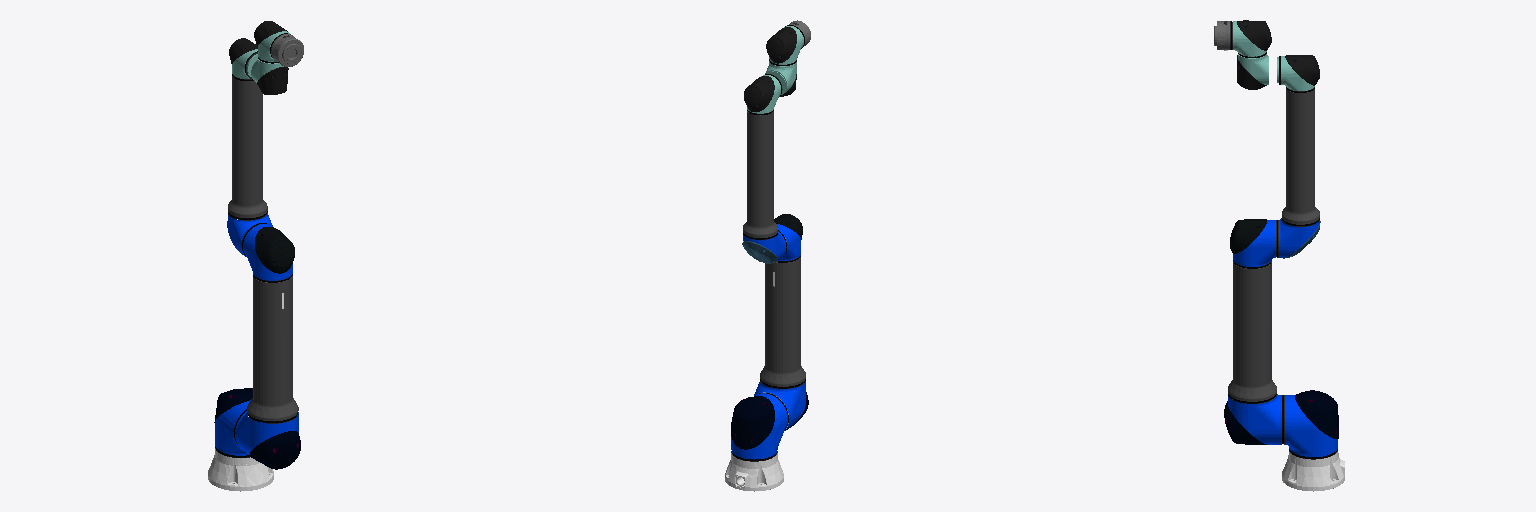
The robot description file, URDF, robot "rb10_1300e":
<?xml version="1.0" ?>
<!-- =================================================================================== -->
<!-- |    This document was autogenerated by xacro from rb10_1300e.urdf.xacro          | -->
<!-- |    EDITING THIS FILE BY HAND IS NOT RECOMMENDED                                 | -->
<!-- =================================================================================== -->
<robot name="rb10_1300e">
  <link name="link0">
    <visual>
      <geometry>
        <mesh filename="package://rbpodo_description/meshes/rb10_1300e/visual/link0.dae"/>
      </geometry>
    </visual>
    <collision>
      <geometry>
        <mesh filename="package://rbpodo_description/meshes/rb10_1300e/collision/link0.stl"/>
      </geometry>
    </collision>
  </link>
  <link name="link1">
    <visual>
      <geometry>
        <mesh filename="package://rbpodo_description/meshes/rb10_1300e/visual/link1.dae"/>
      </geometry>
    </visual>
    <collision>
      <geometry>
        <mesh filename="package://rbpodo_description/meshes/rb10_1300e/collision/link1.stl"/>
      </geometry>
    </collision>
    <inertial>
      <origin rpy="0 0 0" xyz="0.000021 -0.007855 -0.042537"/>
      <mass value="8.366"/>
      <inertia ixx="0.027403652" ixy="-5.926e-06" ixz="-1.0119e-05" iyy="0.027770573" iyz="0.003030512" izz="0.026140211"/>
    </inertial>
  </link>
  <link name="link2">
    <visual>
      <geometry>
        <mesh filename="package://rbpodo_description/meshes/rb10_1300e/visual/link2.dae"/>
      </geometry>
    </visual>
    <collision>
      <geometry>
        <mesh filename="package://rbpodo_description/meshes/rb10_1300e/collision/link2.stl"/>
      </geometry>
    </collision>
    <inertial>
      <origin rpy="0 0 0" xyz="-0.000013 -0.155462 0.225241"/>
      <mass value="15.61"/>
      <inertia ixx="1.140650644" ixy="-1.3042e-05" ixz="-6.7084e-05" iyy="1.134398623" iyz="0.024507884" izz="0.050849068"/>
    </inertial>
  </link>
  <link name="link3">
    <visual>
      <geometry>
        <mesh filename="package://rbpodo_description/meshes/rb10_1300e/visual/link3.dae"/>
      </geometry>
    </visual>
    <collision>
      <geometry>
        <mesh filename="package://rbpodo_description/meshes/rb10_1300e/collision/link3.stl"/>
      </geometry>
    </collision>
    <inertial>
      <origin rpy="0 0 0" xyz="-0.000048 -0.013885 0.325013"/>
      <mass value="5.69"/>
      <inertia ixx="0.312033029" ixy="9.298e-06" ixz="1.169e-05" iyy="0.311287646" iyz="0.005331552" izz="0.011397824"/>
    </inertial>
  </link>
  <link name="link4">
    <visual>
      <geometry>
        <mesh filename="package://rbpodo_description/meshes/rb10_1300e/visual/link4.dae"/>
      </geometry>
    </visual>
    <collision>
      <geometry>
        <mesh filename="package://rbpodo_description/meshes/rb10_1300e/collision/link4.stl"/>
      </geometry>
    </collision>
    <inertial>
      <origin rpy="0 0 0" xyz="0.000093 -0.113949 0.026461"/>
      <mass value="2.062"/>
      <inertia ixx="0.0027111" ixy="-8.022e-06" ixz="1.1208e-05" iyy="0.002715407" iyz="0.000144243" izz="0.002157043"/>
    </inertial>
  </link>
  <link name="link5">
    <visual>
      <geometry>
        <mesh filename="package://rbpodo_description/meshes/rb10_1300e/visual/link5.dae"/>
      </geometry>
    </visual>
    <collision>
      <geometry>
        <mesh filename="package://rbpodo_description/meshes/rb10_1300e/collision/link5.stl"/>
      </geometry>
    </collision>
    <inertial>
      <origin rpy="0 0 0" xyz="-0.000093 -0.026434 -0.003233"/>
      <mass value="2.061"/>
      <inertia ixx="0.002706437" ixy="1.1205e-05" ixz="-8.016e-06" iyy="0.002153592" iyz="0.000141528" izz="0.002712272"/>
    </inertial>
  </link>
  <link name="link6">
    <visual>
      <geometry>
        <mesh filename="package://rbpodo_description/meshes/rb10_1300e/visual/link6.dae"/>
      </geometry>
    </visual>
    <collision>
      <geometry>
        <mesh filename="package://rbpodo_description/meshes/rb10_1300e/collision/link6.stl"/>
      </geometry>
    </collision>
    <inertial>
      <origin rpy="0 0 0" xyz="-0.000210 -0.092540 -0.000292"/>
      <mass value="0.406"/>
      <inertia ixx="0.000345314" ixy="5.73e-07" ixz="6.61e-07" iyy="0.000532873" iyz="-5.4e-08" izz="0.000340021"/>
    </inertial>
  </link>
  <link name="tcp"/>
  <joint name="base" type="revolute">
    <origin rpy="0 0 0" xyz="0 0 0.197"/>
    <parent link="link0"/>
    <child link="link1"/>
    <axis xyz="0 0 1"/>
    <limit effort="10" lower="-3.14" upper="3.14" velocity="3.14"/>
  </joint>
  <joint name="shoulder" type="revolute">
    <origin rpy="0 0 0" xyz="0 -0.1875 0"/>
    <parent link="link1"/>
    <child link="link2"/>
    <axis xyz="0 1 0"/>
    <limit effort="10" lower="-3.14" upper="3.14" velocity="3.14"/>
  </joint>
  <joint name="elbow" type="revolute">
    <origin rpy="0 0 0" xyz="0 0 0.6127"/>
    <parent link="link2"/>
    <child link="link3"/>
    <axis xyz="0 1 0"/>
    <limit effort="10" lower="-3.14" upper="3.14" velocity="3.14"/>
  </joint>
  <joint name="wrist1" type="revolute">
    <origin rpy="0 0 0" xyz="0 0.11715 0.57015"/>
    <parent link="link3"/>
    <child link="link4"/>
    <axis xyz="0 1 0"/>
    <limit effort="10" lower="-3.14" upper="3.14" velocity="3.14"/>
  </joint>
  <joint name="wrist2" type="revolute">
    <origin rpy="0 0 0" xyz="0 -0.11715 0"/>
    <parent link="link4"/>
    <child link="link5"/>
    <axis xyz="0 0 1"/>
    <limit effort="10" lower="-3.14" upper="3.14" velocity="3.14"/>
  </joint>
  <joint name="wrist3" type="revolute">
    <origin rpy="0 0 0" xyz="0 0 0.11715"/>
    <parent link="link5"/>
    <child link="link6"/>
    <axis xyz="0 1 0"/>
    <limit effort="10" lower="-3.14" upper="3.14" velocity="3.14"/>
  </joint>
  <joint name="tcp_joint" type="fixed">
    <origin rpy="0 0 0" xyz="0 -0.1153 0"/>
    <parent link="link6"/>
    <child link="tcp"/>
  </joint>
  <ros2_control name="RBPodoHardwareInterface" type="system">
    <hardware>
      <plugin>mock_components/GenericSystem</plugin>
      <param name="mock_sensor_commands">False</param>
      <param name="state_following_offset">0.0</param>
    </hardware>
    <joint name="base">
      <param name="initial_position">0.0</param>
      <param name="torque_constant">1</param>
      <command_interface name="effort"/>
      <command_interface name="velocity"/>
      <command_interface name="position"/>
      <state_interface name="position"/>
      <state_interface name="effort"/>
    </joint>
    <joint name="shoulder">
      <param name="initial_position">0.0</param>
      <param name="torque_constant">1</param>
      <command_interface name="effort"/>
      <command_interface name="velocity"/>
      <command_interface name="position"/>
      <state_interface name="position"/>
      <state_interface name="effort"/>
    </joint>
    <joint name="elbow">
      <param name="initial_position">0.0</param>
      <param name="torque_constant">1</param>
      <command_interface name="effort"/>
      <command_interface name="velocity"/>
      <command_interface name="position"/>
      <state_interface name="position"/>
      <state_interface name="effort"/>
    </joint>
    <joint name="wrist1">
      <param name="initial_position">0.0</param>
      <param name="torque_constant">1</param>
      <command_interface name="effort"/>
      <command_interface name="velocity"/>
      <command_interface name="position"/>
      <state_interface name="position"/>
      <state_interface name="effort"/>
    </joint>
    <joint name="wrist2">
      <param name="initial_position">0.0</param>
      <param name="torque_constant">1</param>
      <command_interface name="effort"/>
      <command_interface name="velocity"/>
      <command_interface name="position"/>
      <state_interface name="position"/>
      <state_interface name="effort"/>
    </joint>
    <joint name="wrist3">
      <param name="initial_position">0.0</param>
      <param name="torque_constant">1</param>
      <command_interface name="effort"/>
      <command_interface name="velocity"/>
      <command_interface name="position"/>
      <state_interface name="position"/>
      <state_interface name="effort"/>
    </joint>
  </ros2_control>
</robot>

--- What the picture shows (computed from the rendered views, not written in the file) ---
The picture shows the robot from 3 angles, left to right: view 1: azimuth 30°, elevation 25°; view 2: azimuth 150°, elevation 25°; view 3: azimuth 270°, elevation 25°; orthographic projection.
Robot: rb10_1300e — 8 links, 7 joints (6 revolute, 1 fixed); root link link0; default pose: every joint at zero.
Links seen in each view (by area): view 1: link2, link3, link0, link1, link4, link6, link5; view 2: link2, link3, link1, link0, link5, link4; view 3: link2, link3, link1, link0, link5, link4.
Link boxes in pixels (box(x1,y1,x2,y2)): link2: box(234, 223, 300, 469); link3: box(227, 38, 272, 256); link0: box(208, 449, 273, 491); link1: box(214, 388, 252, 457); link4: box(251, 57, 288, 94); link6: box(271, 34, 303, 66); link5: box(254, 21, 290, 61); link2: box(754, 214, 808, 430); link3: box(742, 74, 785, 263); link1: box(731, 393, 787, 461); link0: box(725, 453, 783, 491); link5: box(766, 25, 804, 64); link4: box(765, 59, 796, 96); link2: box(1224, 219, 1284, 444); link3: box(1277, 55, 1320, 258); link1: box(1285, 390, 1338, 459); link0: box(1282, 452, 1344, 491); link5: box(1230, 20, 1271, 56); link4: box(1237, 52, 1268, 89).
Bounding box of the posed robot: 0.196 × 0.4018 × 1.54 m (x, y, z).
Meshes: 7 distinct files referenced, 7 mesh visuals loaded (7 Collada DAE).